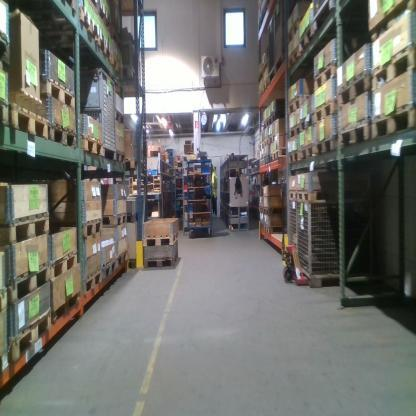pallet: (9, 312, 53, 360), (370, 46, 416, 88), (369, 106, 416, 141), (10, 264, 51, 301), (1, 213, 49, 244), (12, 108, 49, 142), (44, 78, 77, 112), (49, 251, 80, 282), (143, 250, 182, 270), (50, 123, 78, 149), (141, 229, 179, 247)
